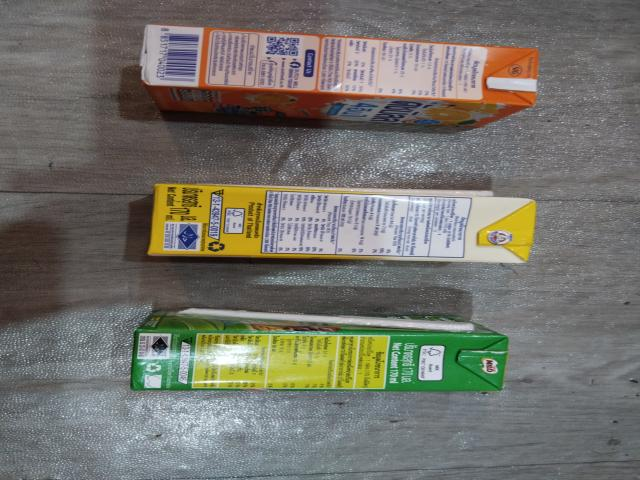drink_box: (132, 14, 539, 134), (126, 177, 567, 275), (120, 304, 530, 401)
